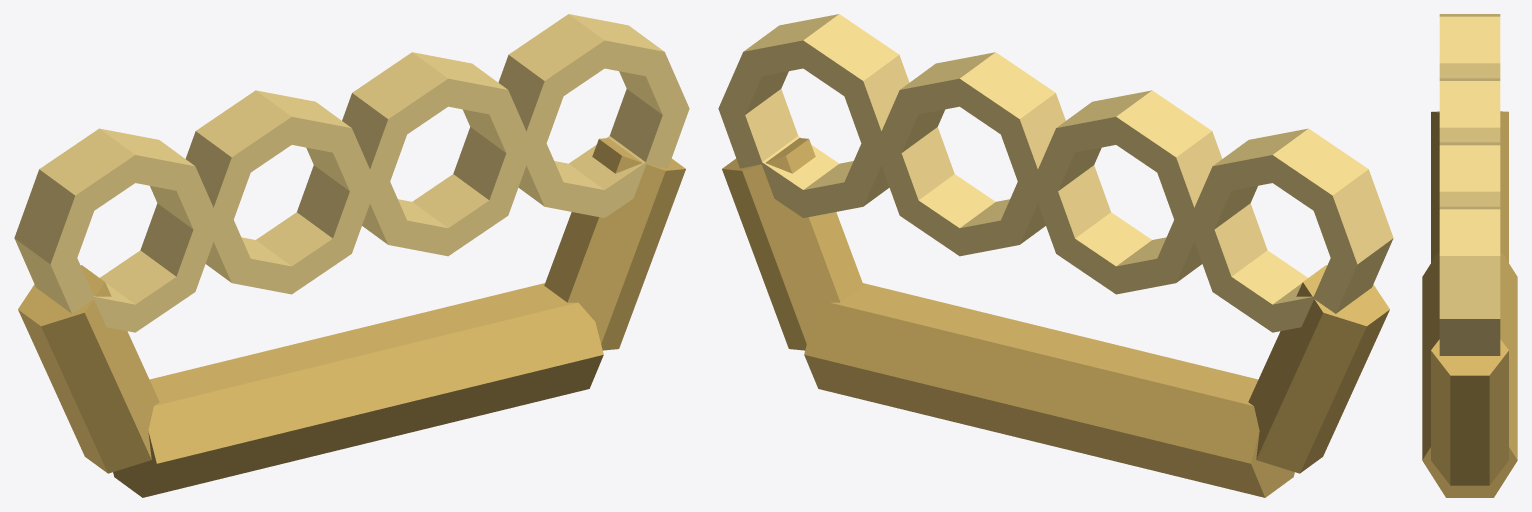
The model's file is BrassKnuckles.fbx.
3 views of the same model, side by side, from view 1: azimuth 30°, elevation 25°; view 2: azimuth 150°, elevation 25°; view 3: azimuth 270°, elevation 25° (orthographic). The views are drawn at different scales.
Parts seen in each view (by area): view 1: PalmBrace, FingerRing3, FingerRing2, FingerRing1, FingerRing0, PalmBridge1, PalmBridge-1; view 2: PalmBrace, FingerRing3, FingerRing1, FingerRing2, FingerRing0, PalmBridge1, PalmBridge-1; view 3: PalmBridge-1, FingerRing0, PalmBrace, FingerRing1, FingerRing2, FingerRing3, PalmBridge1.
Part boxes in pixels (left/top/right/bottom): PalmBrace: left=113, top=283, right=603, bottom=497; FingerRing3: left=14, top=128, right=219, bottom=332; FingerRing2: left=185, top=90, right=376, bottom=294; FingerRing1: left=342, top=52, right=532, bottom=256; FingerRing0: left=498, top=14, right=689, bottom=217; PalmBridge1: left=18, top=265, right=159, bottom=473; PalmBridge-1: left=544, top=138, right=685, bottom=350; PalmBrace: left=804, top=283, right=1294, bottom=497; FingerRing3: left=1189, top=128, right=1393, bottom=332; FingerRing1: left=875, top=52, right=1065, bottom=256; FingerRing2: left=1038, top=90, right=1222, bottom=294; FingerRing0: left=718, top=14, right=909, bottom=217; PalmBridge1: left=1248, top=265, right=1389, bottom=473; PalmBridge-1: left=722, top=138, right=863, bottom=350; PalmBridge-1: left=1431, top=339, right=1508, bottom=485; FingerRing0: left=1439, top=206, right=1500, bottom=355; PalmBrace: left=1422, top=251, right=1517, bottom=497; FingerRing1: left=1439, top=142, right=1500, bottom=206; FingerRing2: left=1439, top=78, right=1500, bottom=142; FingerRing3: left=1439, top=14, right=1500, bottom=78; PalmBridge1: left=1431, top=111, right=1508, bottom=262.
Bounding box in the file's own units: 0.1443 × 0.0745 × 0.022.
